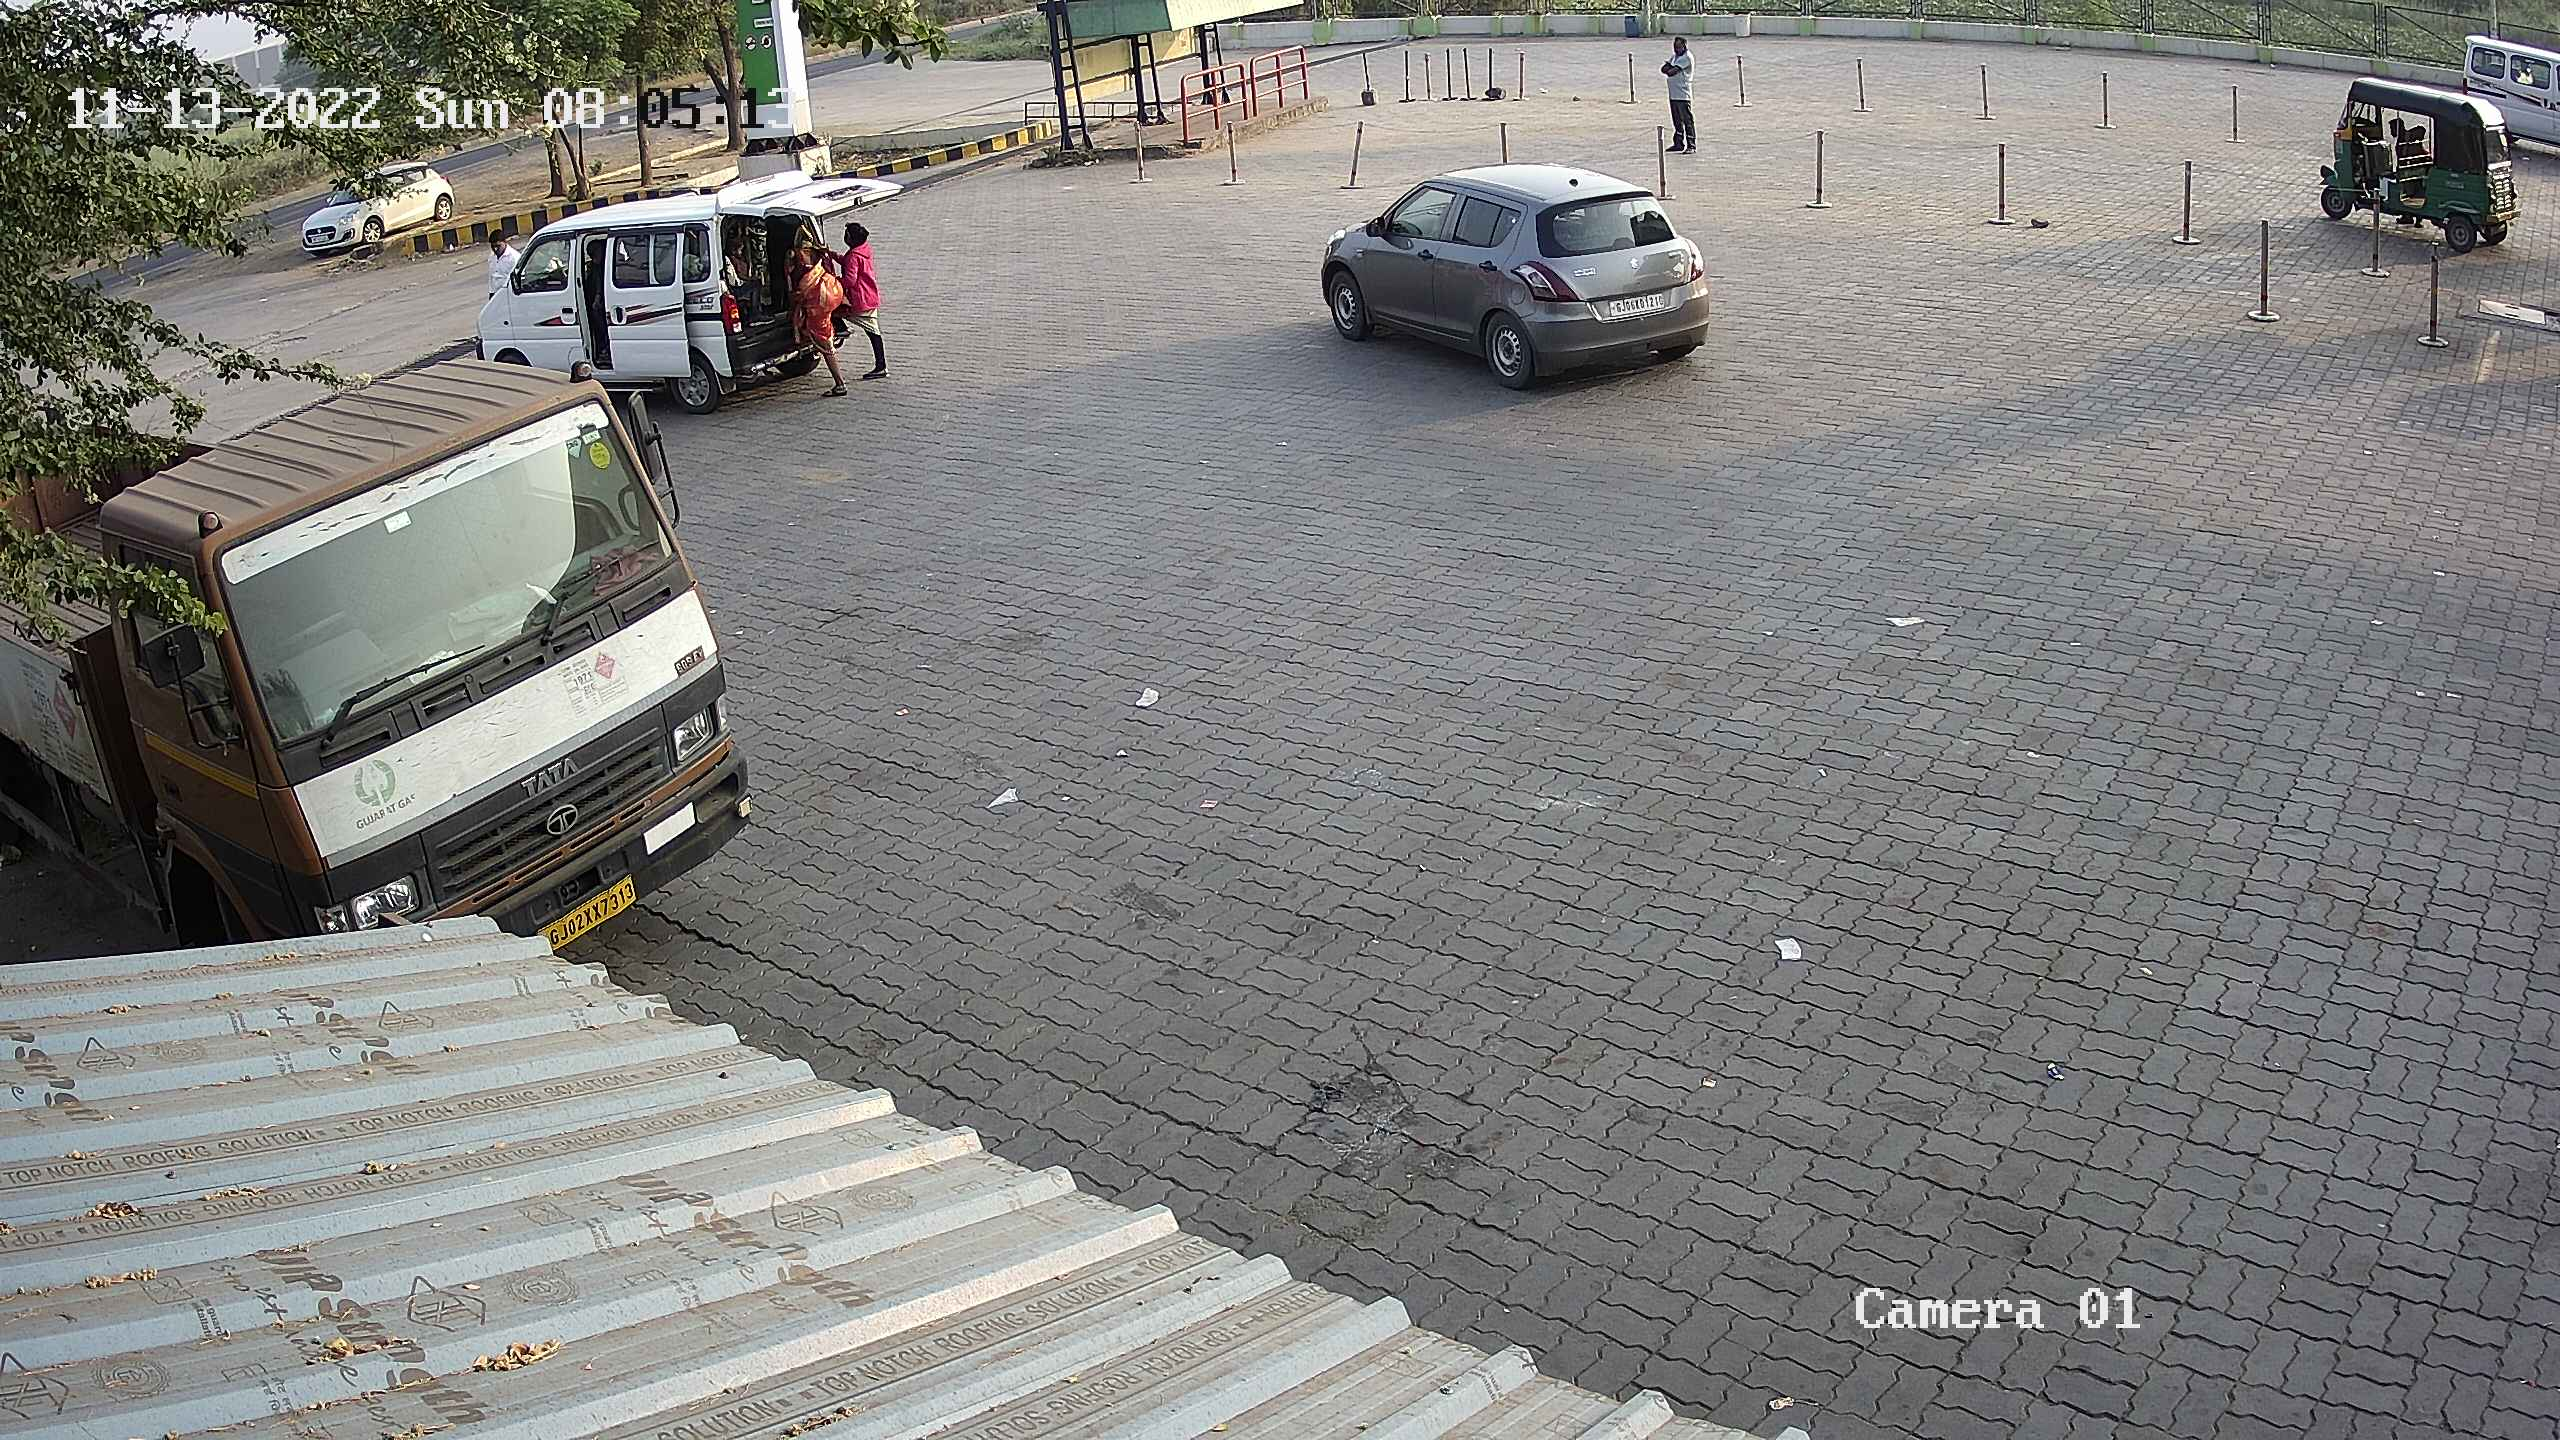Auto: (2300, 55, 2520, 262)
Car: (455, 156, 907, 422), (1317, 139, 1713, 403), (288, 155, 482, 265), (2430, 23, 2560, 178)
HMV: (0, 346, 772, 962)
